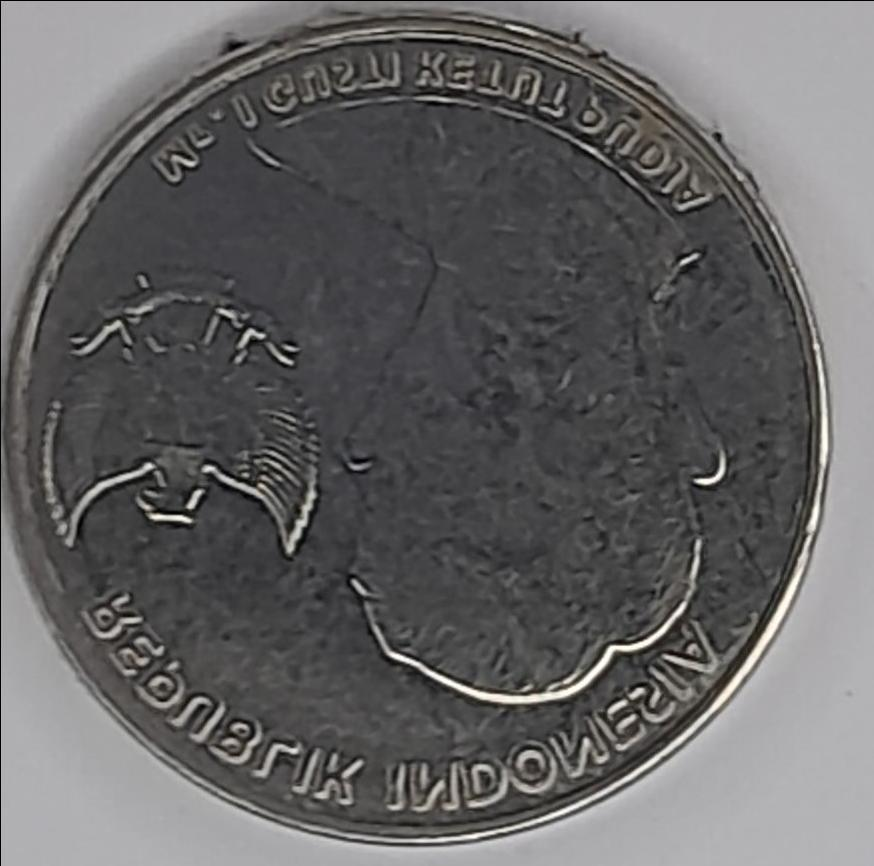coin_1000_e2016: (15, 17, 862, 866)
